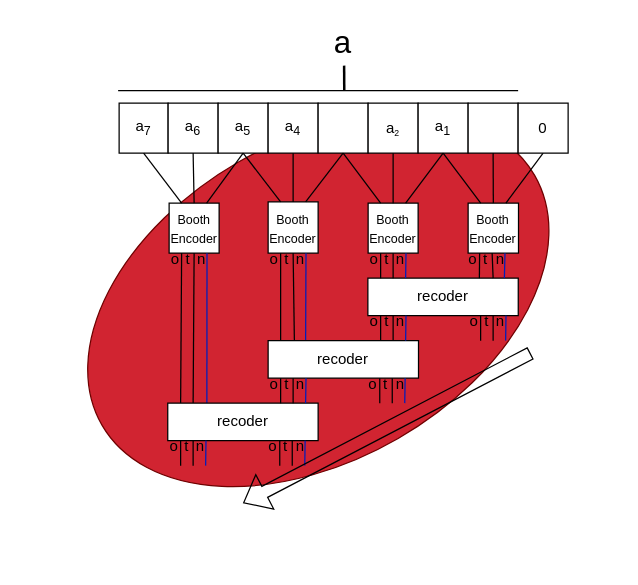
This 638x585 diagram has some shape labels left out. Each missing label, with the box of its shape:
a 0: (467, 102, 518, 153)
a 3: (317, 102, 368, 153)
